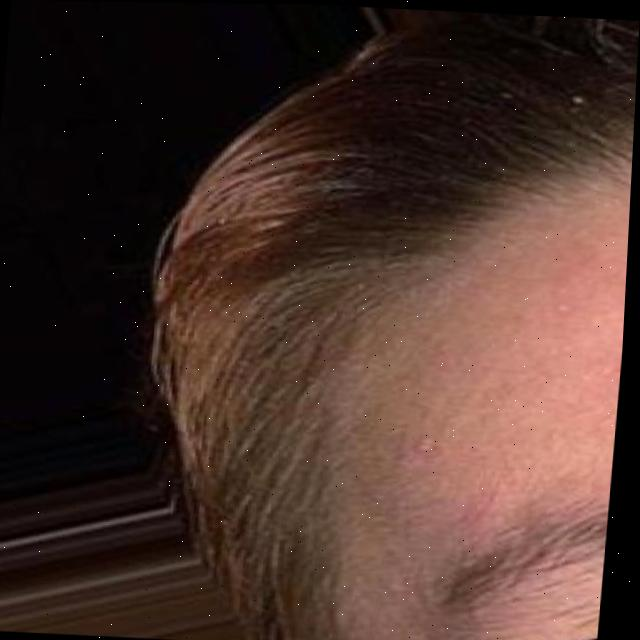Rosacea: (396, 269, 621, 523)
